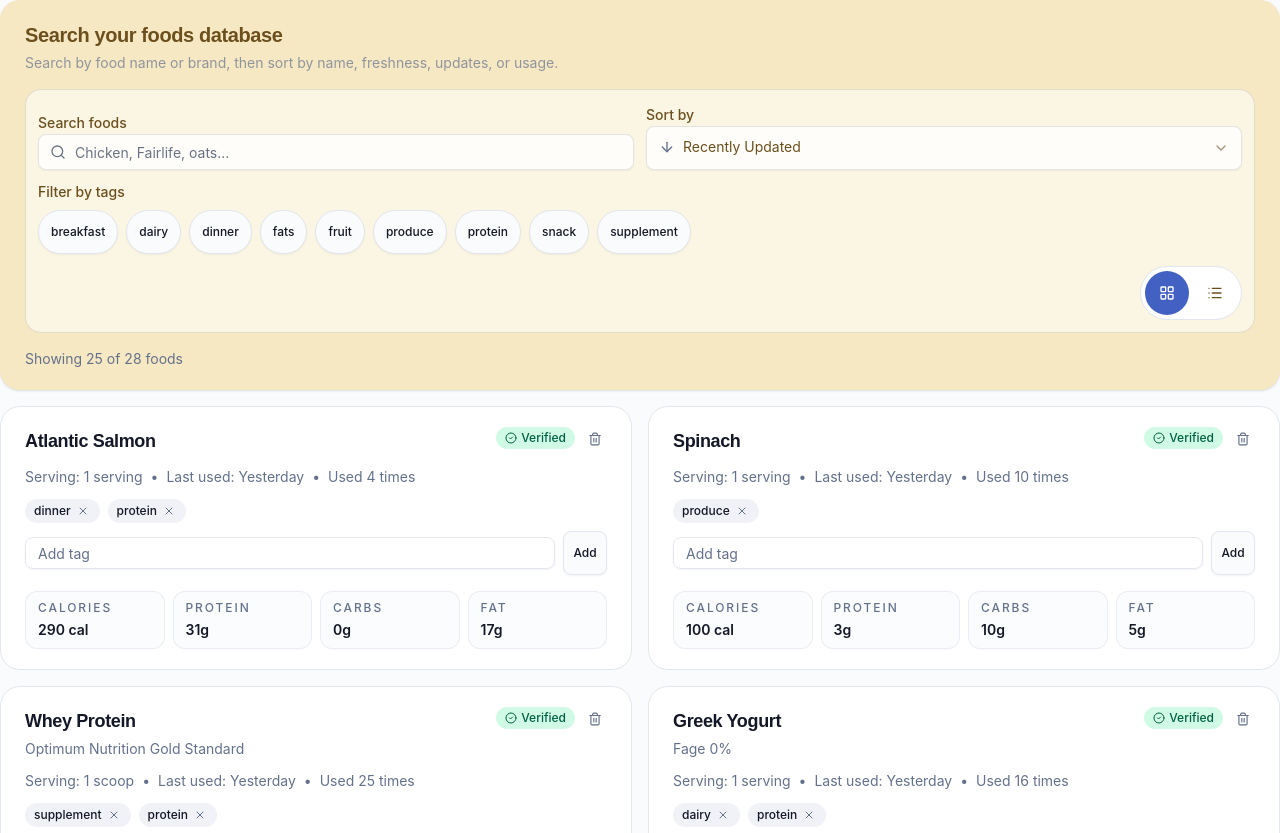
it: FoodList › keeps the inline editor open if a pending save blurs before the API fails
Expected: the heading "Spinach" is shown, [673,427,740,455]
Click the button "Whey Protein": (80, 721) [25,707,136,735]
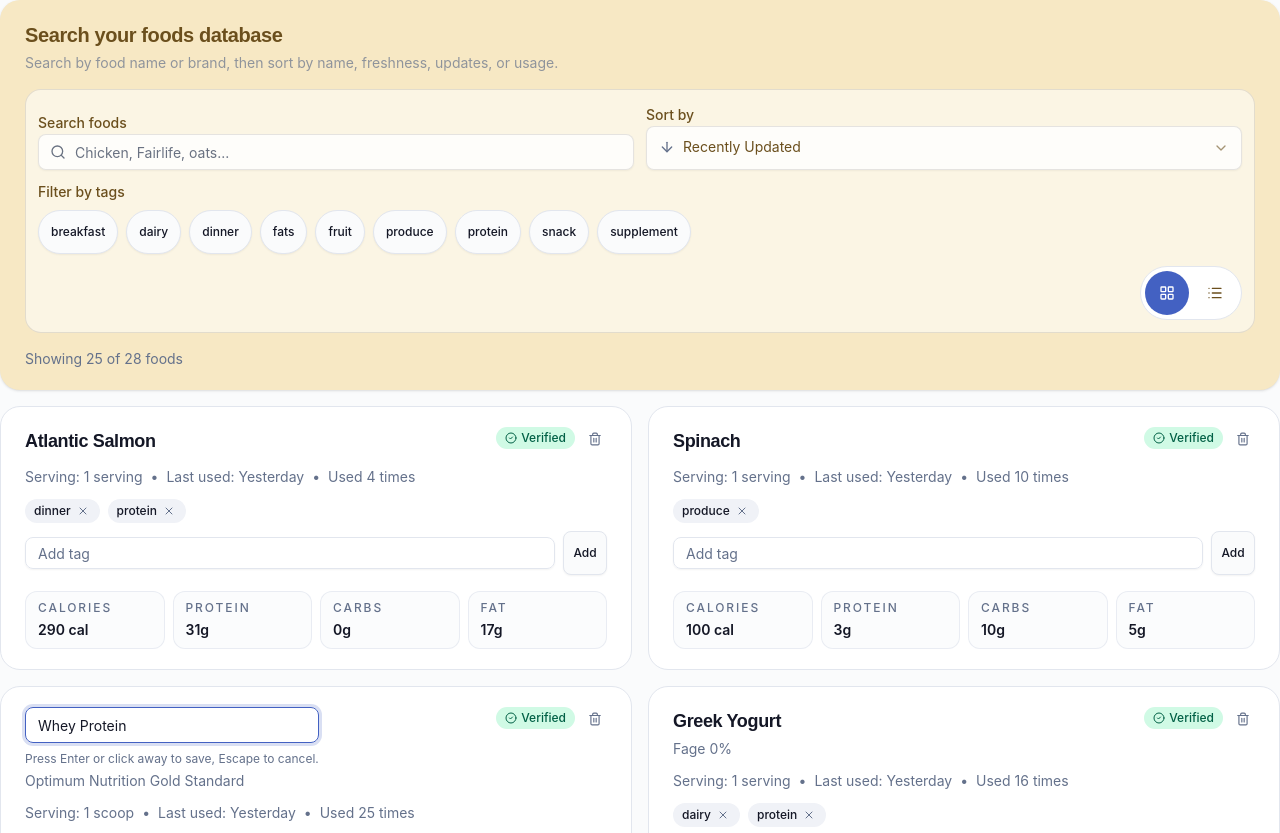
Replace the text in the field named "Edit Whey Protein name" with "Casein Protein": (172, 725) [25,707,319,743]
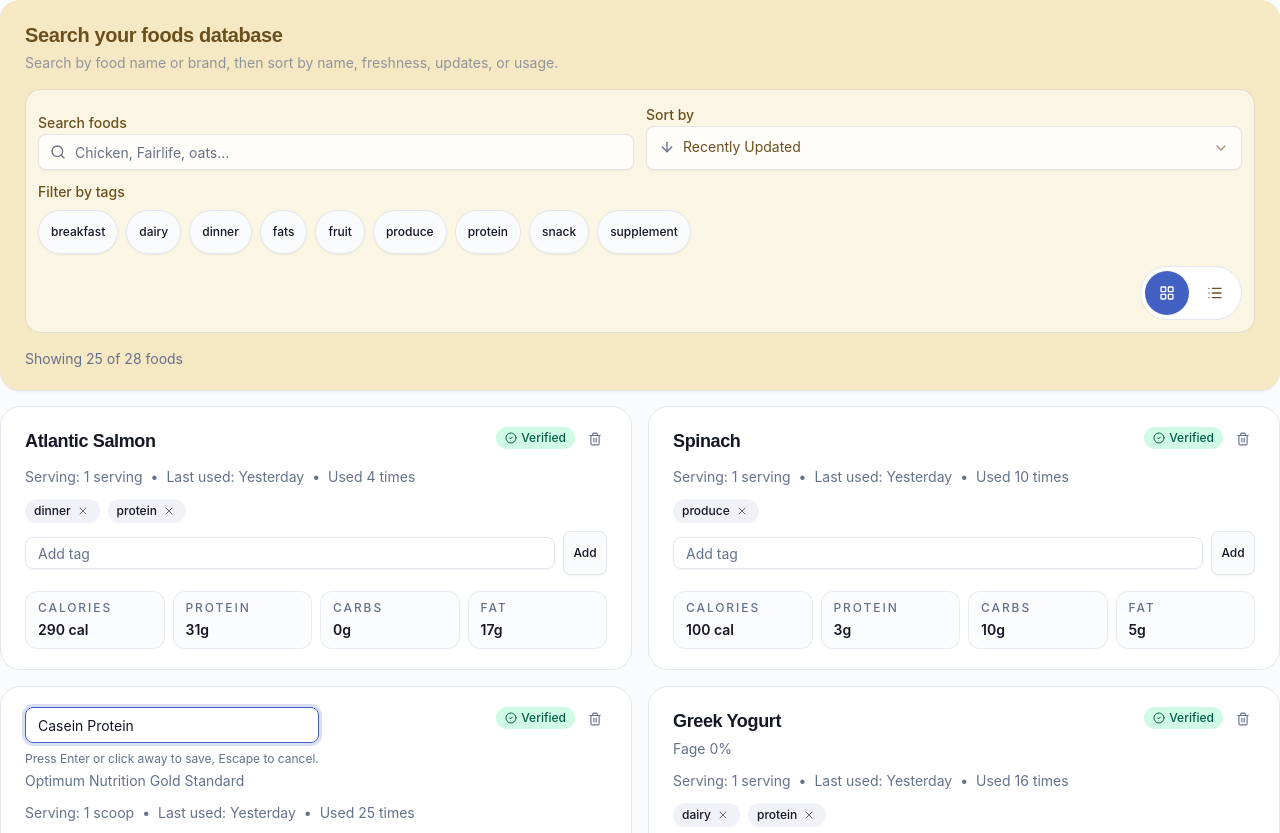
Submit the form named "Edit Whey Protein name", box [25,707,319,767]
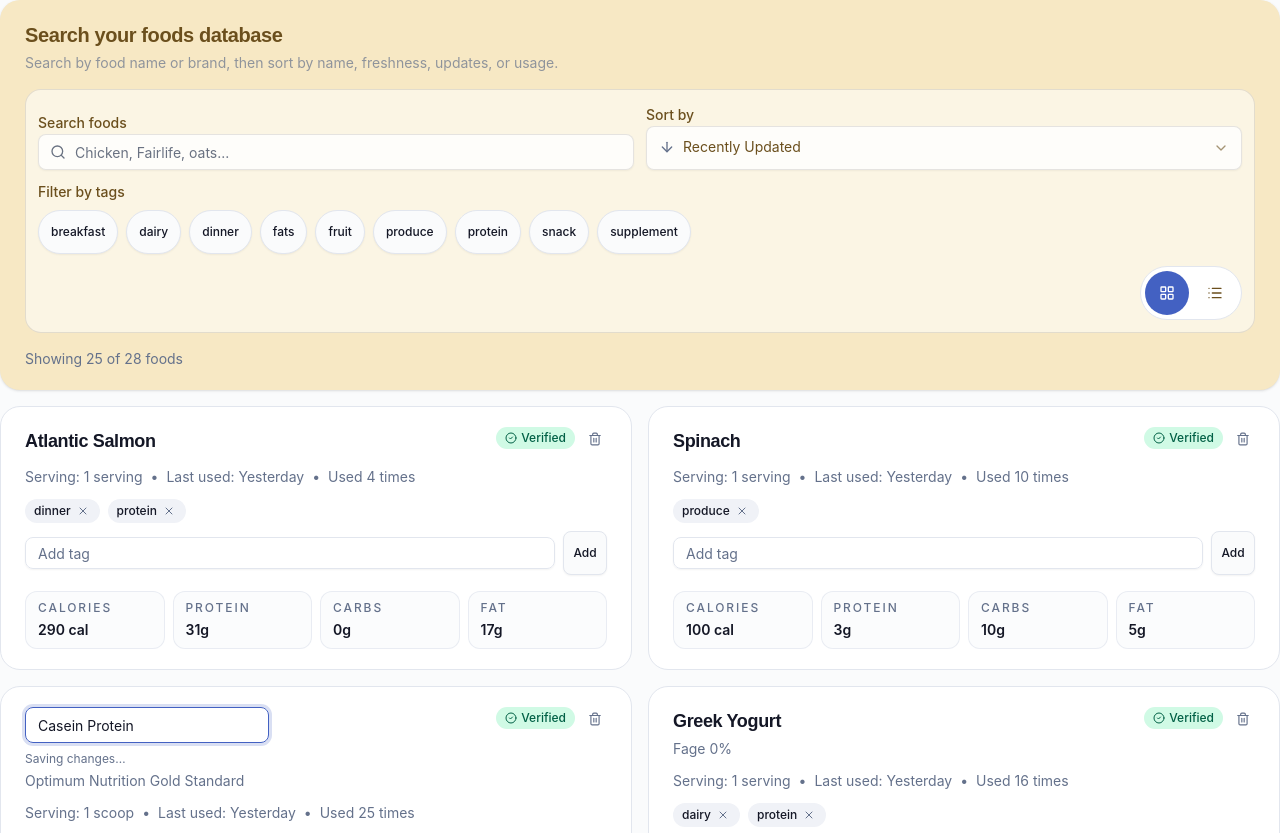
Leave the field named "Edit Whey Protein name", box [25,707,269,743]
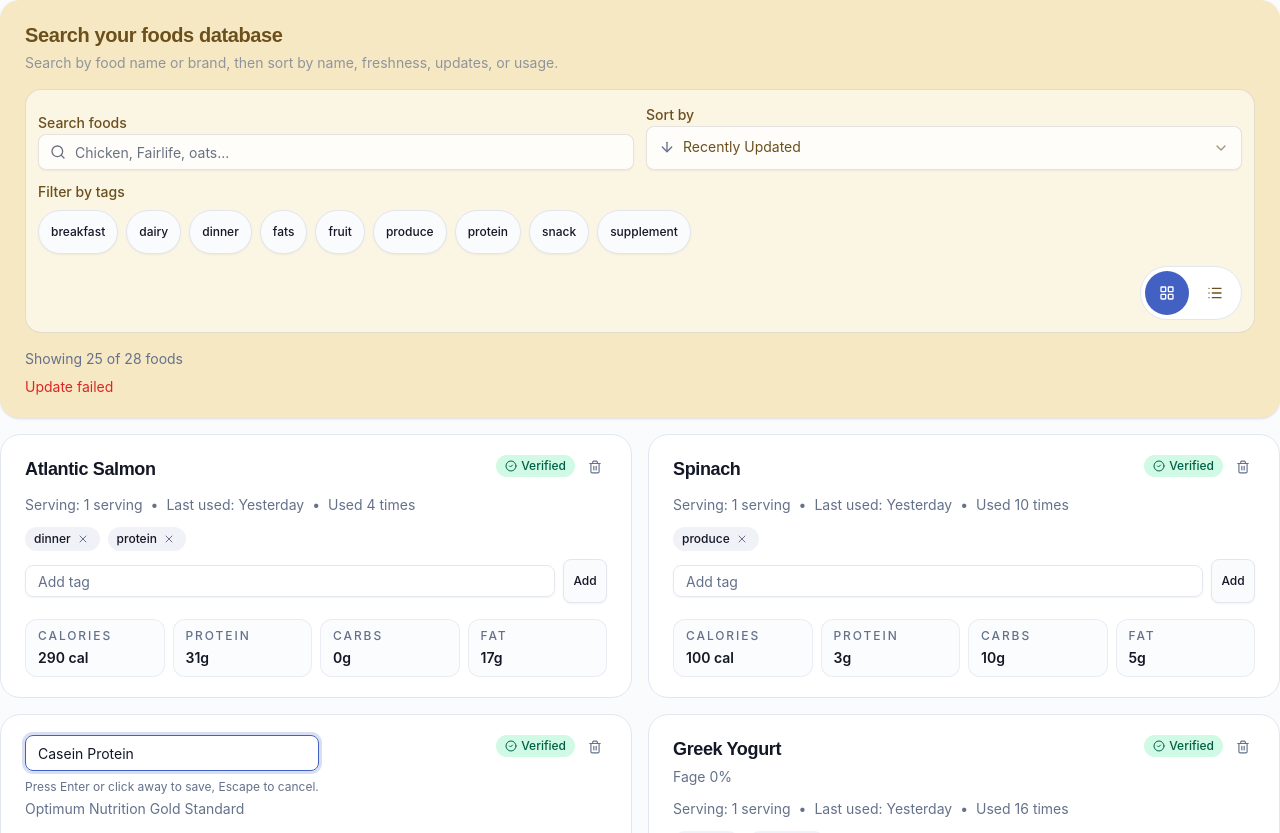
Expected: the text "Update failed" is shown, [25,378,113,395]
